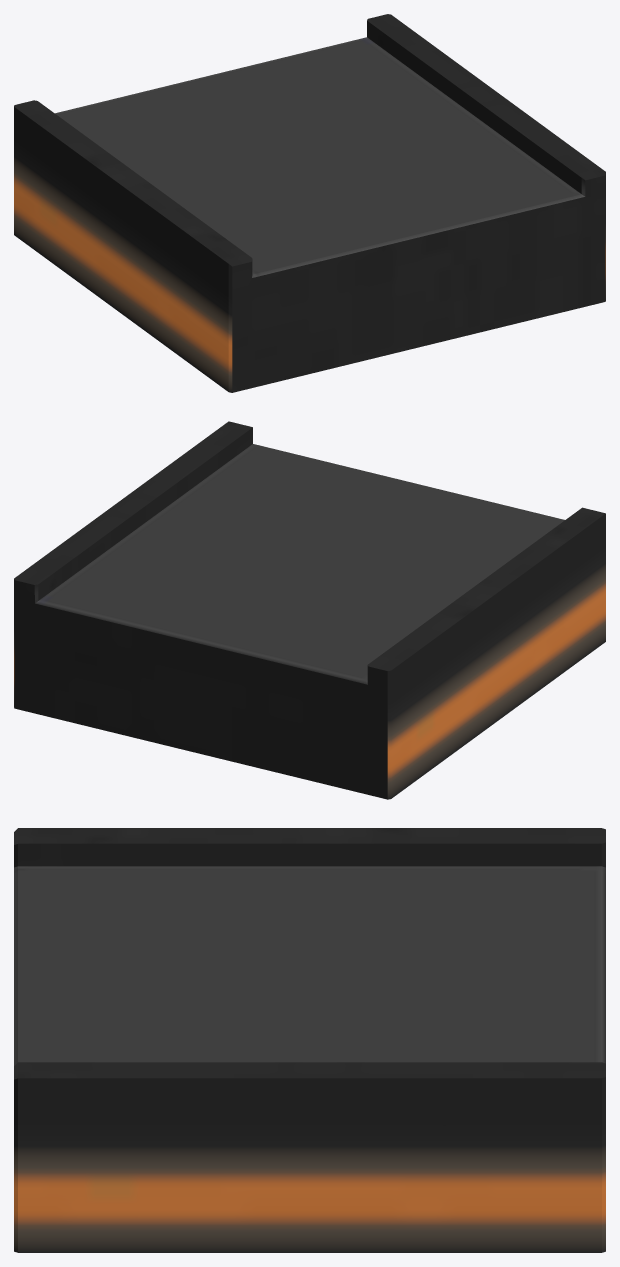
File: hill_1.fbx
3 renders of one model, top to bottom at view 1: azimuth 30°, elevation 25°; view 2: azimuth 150°, elevation 25°; view 3: azimuth 270°, elevation 25°, orthographic. The views are drawn at different scales.
Parts seen in each view (by area): view 1: S_export_cube94; view 2: S_export_cube94; view 3: S_export_cube94.
Part boxes in pixels (<box>): S_export_cube94: <box>14,14,605,392</box>; S_export_cube94: <box>14,421,605,799</box>; S_export_cube94: <box>14,828,605,1252</box>.
Size of the model in its own units: 100 by 32.54 by 100.
